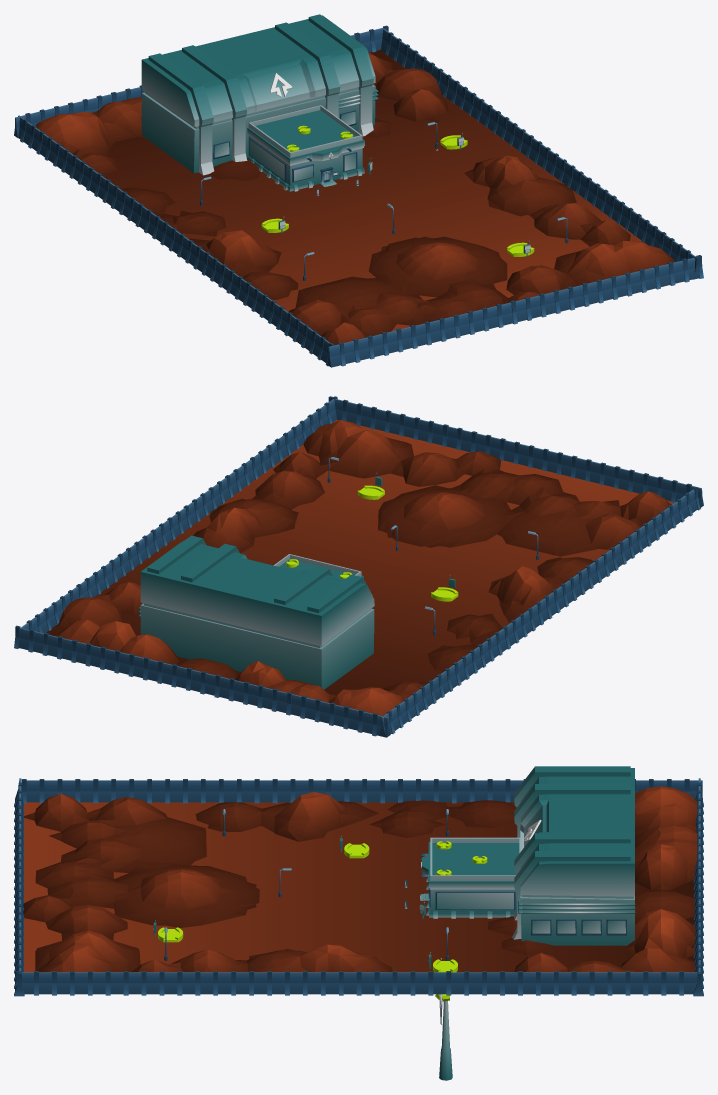
File: Basural_VF.fbx
3 views of the same model, one above another, from view 1: azimuth 30°, elevation 25°; view 2: azimuth 150°, elevation 25°; view 3: azimuth 270°, elevation 25° (orthographic). The views are drawn at different scales.
Visible parts, largest first — view 1: Plane.007, Plane.005, Cube.031, Cube.033, Cube.064, Cube.007, Cube.032, Cube.042, Cube.041, Cube.034, Cube.040, Cube.001; view 2: Plane.007, Plane.005, Cube.031, Cube.034, Cube.064, Cube.033, Cube.007, Cube.042, Cube.041, Cube.032; view 3: Plane.007, Plane.005, Cube.007, Cube.031, Cube.064, Cube.032, Cube.042, Cube.041, Cube.033, Cube.034, Cube.046, Cube.040 (+1 smaller).
Boxes of the visible parts, x1,y1,x2,y2 form: Plane.007: (36, 52, 674, 345); Plane.005: (106, 50, 647, 331); Cube.031: (141, 15, 375, 173); Cube.033: (327, 255, 703, 367); Cube.064: (18, 115, 334, 366); Cube.007: (381, 29, 699, 279); Cube.032: (248, 105, 362, 186); Cube.042: (148, 14, 373, 175); Cube.041: (182, 22, 340, 161); Cube.034: (14, 25, 388, 138); Cube.040: (247, 127, 364, 165); Cube.001: (249, 138, 286, 181); Plane.007: (51, 420, 671, 715); Plane.005: (46, 420, 673, 694); Cube.031: (140, 540, 374, 689); Cube.034: (14, 625, 390, 737); Cube.064: (379, 486, 700, 736); Cube.033: (328, 396, 703, 507); Cube.007: (21, 396, 337, 633); Cube.042: (147, 535, 372, 613); Cube.041: (181, 543, 332, 604); Cube.032: (273, 554, 361, 577); Plane.007: (23, 786, 697, 972); Plane.005: (23, 802, 694, 972); Cube.007: (16, 971, 697, 995); Cube.031: (520, 768, 634, 945); Cube.064: (21, 779, 702, 803); Cube.032: (430, 837, 520, 912); Cube.042: (512, 766, 630, 939); Cube.041: (513, 784, 630, 920); Cube.033: (14, 778, 24, 996); Cube.034: (693, 778, 703, 996); Cube.046: (435, 891, 515, 909); Cube.040: (421, 842, 514, 889).
Bounding box in the file's own units: 103 × 47.45 × 152.
